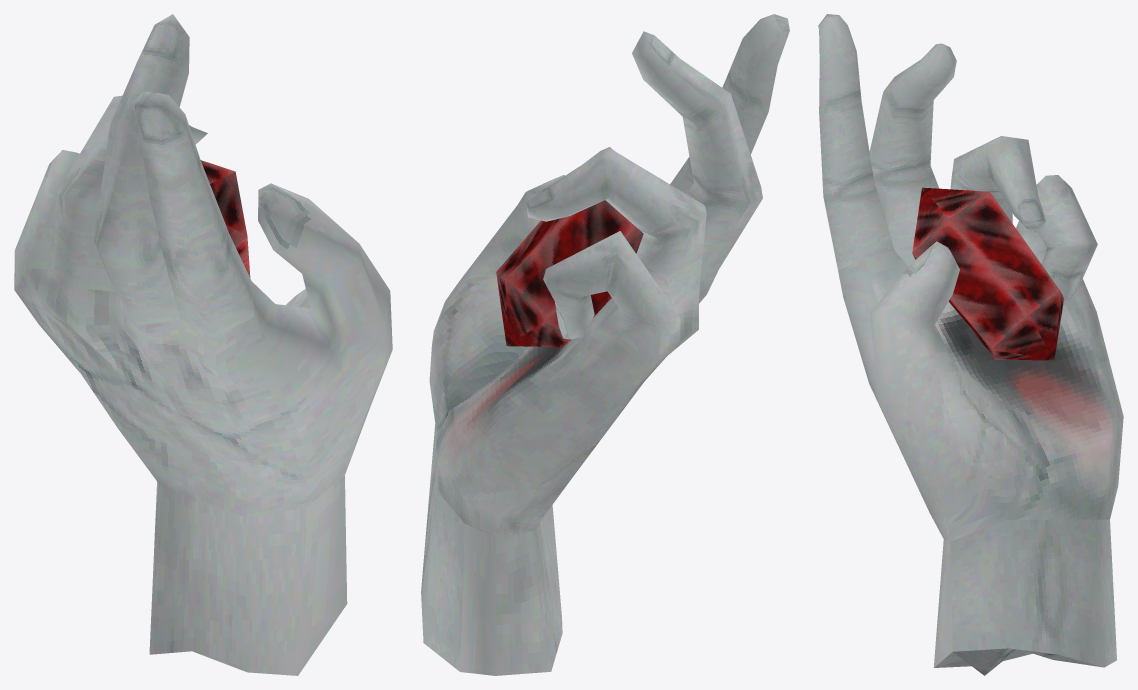
Rendered from ps2_save-icons_shadowofdestiny.glb.
3 views of the same model, side by side, from view 1: azimuth 30°, elevation 25°; view 2: azimuth 150°, elevation 25°; view 3: azimuth 270°, elevation 25° (orthographic). The views are drawn at different scales.
Parts seen in each view (by area): view 1: icon_1; view 2: icon_1; view 3: icon_1.
Boxes of the visible parts, x1=… form: icon_1: x1=14, y1=14, x2=392, y2=675; icon_1: x1=421, y1=14, x2=789, y2=675; icon_1: x1=818, y1=14, x2=1123, y2=675.
Size of the model in its own units: 2.24 by 4.61 by 2.18.
1 material, 1 textured.
